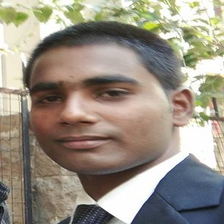no_mask: (31, 57, 171, 164)
